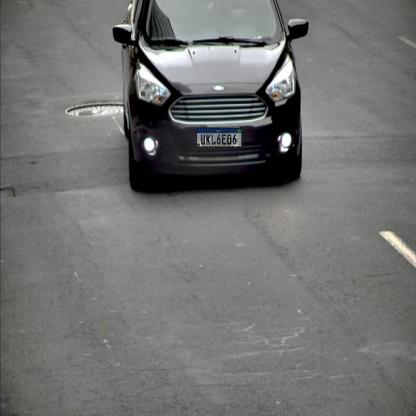PlacaM: (196, 127, 242, 148)
